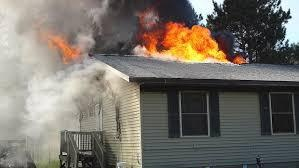fire: (135, 15, 243, 63), (37, 26, 87, 63)
